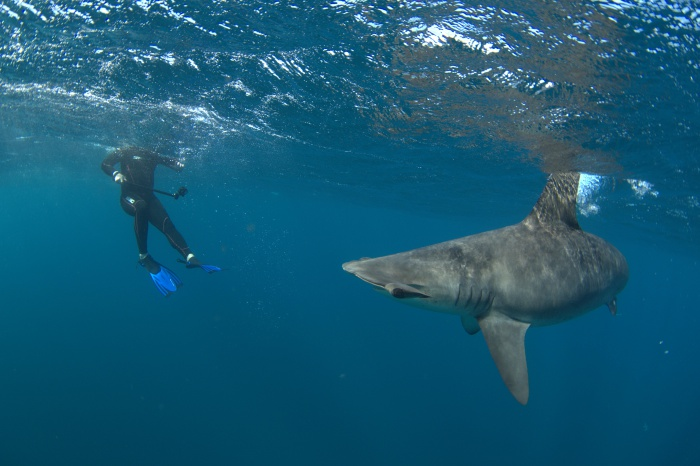Hammer: (318, 157, 638, 406)
